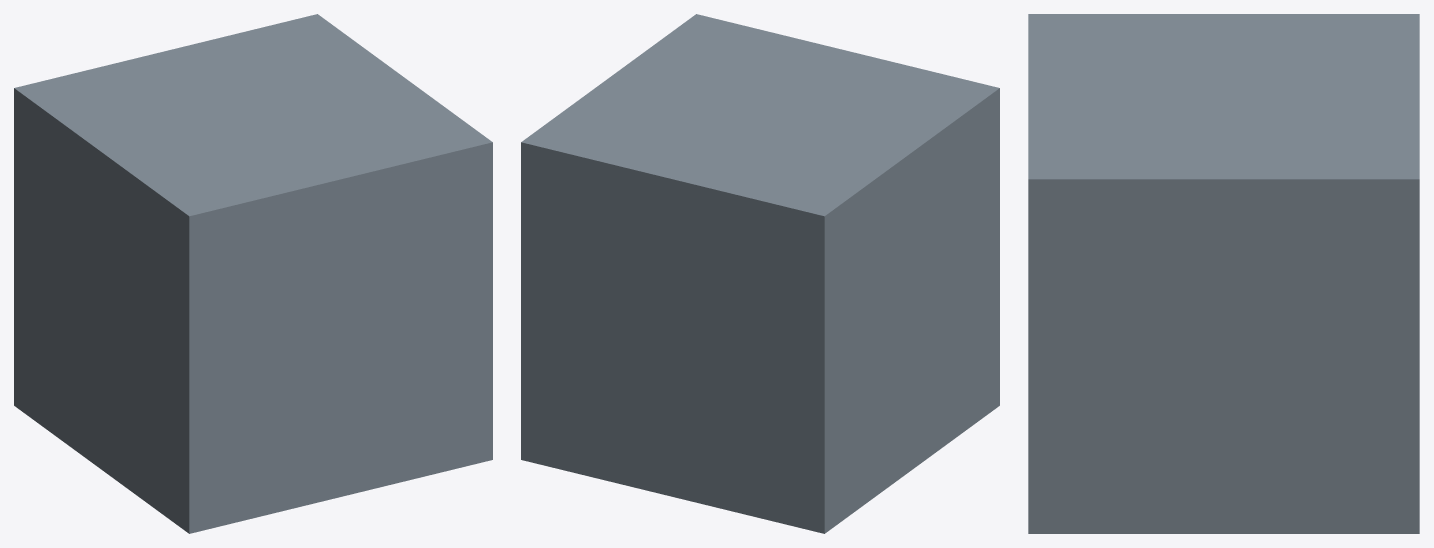
The model's file is energy-crate.glb.
3 views of the same model, side by side, from view 1: azimuth 30°, elevation 25°; view 2: azimuth 150°, elevation 25°; view 3: azimuth 270°, elevation 25° (orthographic). The views are drawn at different scales.
Visible parts, largest first — view 1: EnergyCrate_Frame; view 2: EnergyCrate_Frame; view 3: EnergyCrate_Frame.
Part boxes in pixels (left/top/right/bottom): EnergyCrate_Frame: left=14, top=14, right=492, bottom=533; EnergyCrate_Frame: left=521, top=14, right=999, bottom=533; EnergyCrate_Frame: left=1028, top=14, right=1419, bottom=533.
Size of the model in its own units: 0.8 by 0.8 by 0.8.
